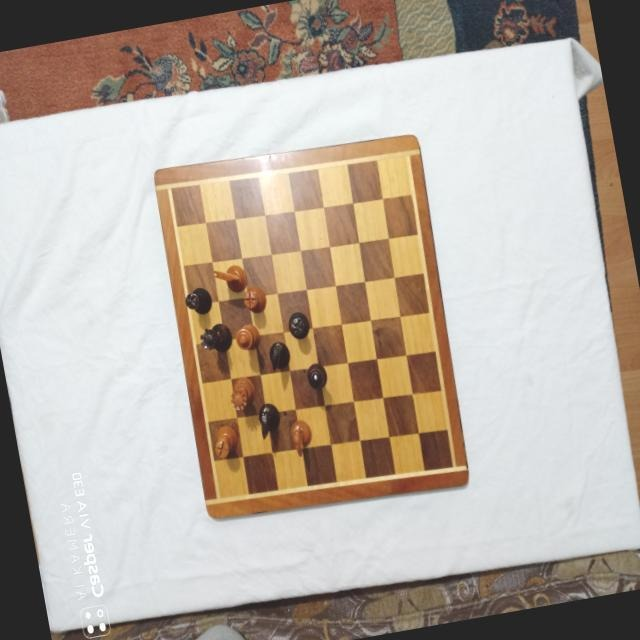black-king: (305, 360, 329, 391)
black-knight: (256, 400, 284, 439), (267, 340, 293, 372)
black-queen: (197, 320, 235, 355)
black-rook: (182, 285, 213, 317), (285, 310, 311, 342)
white-king: (233, 320, 261, 351)
white-knight: (211, 262, 249, 296), (288, 418, 316, 458)
white-queen: (226, 373, 258, 411)
white-rook: (212, 422, 240, 459), (240, 283, 268, 315)
